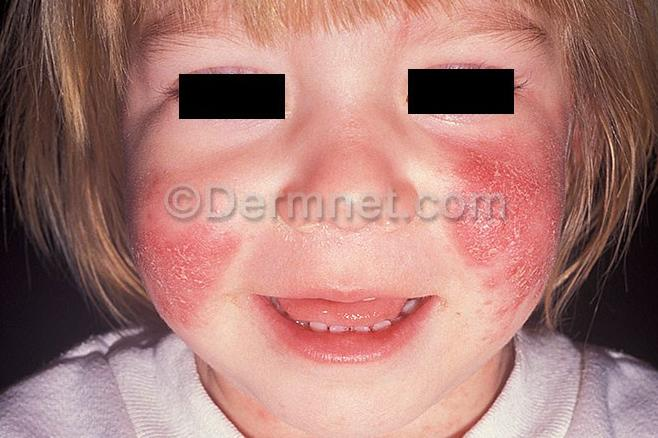Eritema 2: (132, 228, 241, 334)
eritema 3: (455, 148, 562, 318)
xerosis 1: (459, 122, 564, 317), (133, 171, 211, 331)
